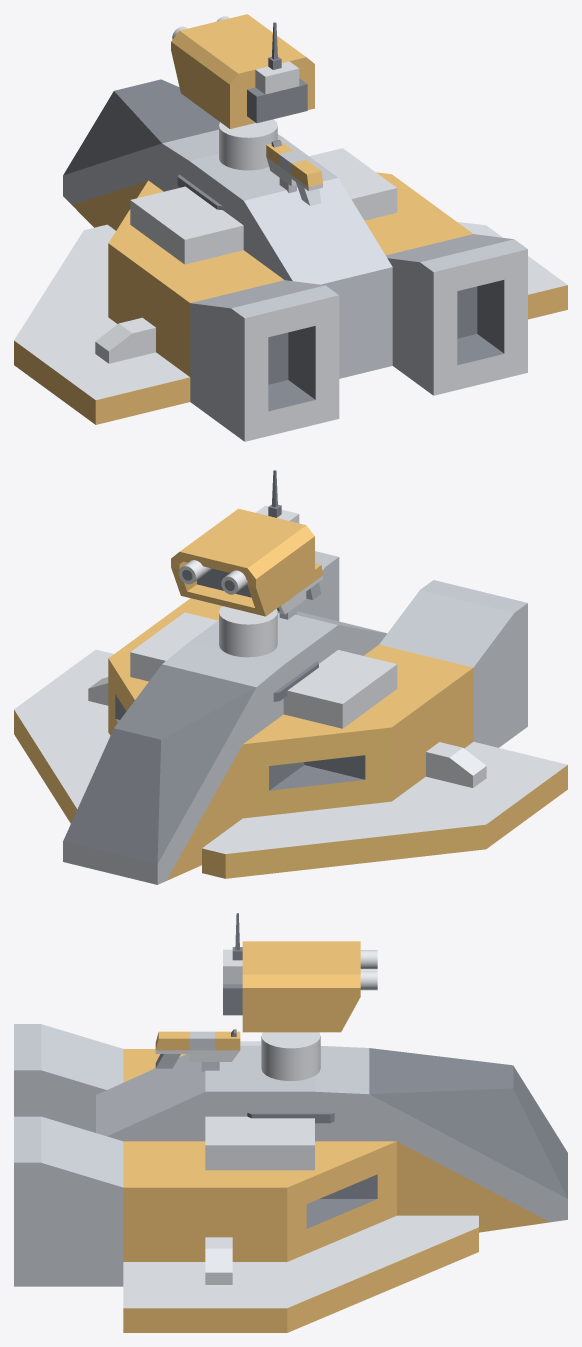
File: unit_ranger.glb
3 views of the same model, one above another, from view 1: azimuth 30°, elevation 25°; view 2: azimuth 150°, elevation 25°; view 3: azimuth 270°, elevation 25° (orthographic).
Parts seen in each view (by area): view 1: craft_speederB, turret.002, turret_single, weapon_rifle; view 2: craft_speederB, turret.002, turret_single, weapon_rifle; view 3: craft_speederB, turret.002, turret_single, weapon_rifle.
Part boxes in pixels (bbox=[...]): craft_speederB: bbox=[14, 79, 567, 441]; turret.002: bbox=[171, 14, 314, 128]; turret_single: bbox=[177, 119, 277, 210]; weapon_rifle: bbox=[266, 139, 322, 205]; craft_speederB: bbox=[14, 551, 567, 884]; turret.002: bbox=[171, 470, 314, 616]; turret_single: bbox=[219, 606, 318, 701]; weapon_rifle: bbox=[277, 563, 322, 619]; craft_speederB: bbox=[14, 1024, 567, 1332]; turret.002: bbox=[223, 913, 360, 1032]; turret_single: bbox=[247, 1032, 334, 1123]; weapon_rifle: bbox=[155, 1029, 240, 1071].
Size of the model in its own units: 1.45 by 0.8889 by 1.47.
